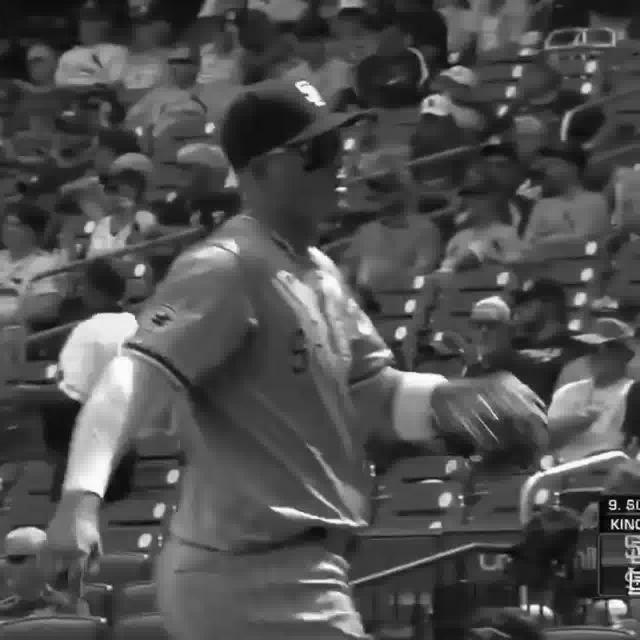baseball_glove: (435, 372, 554, 452)
